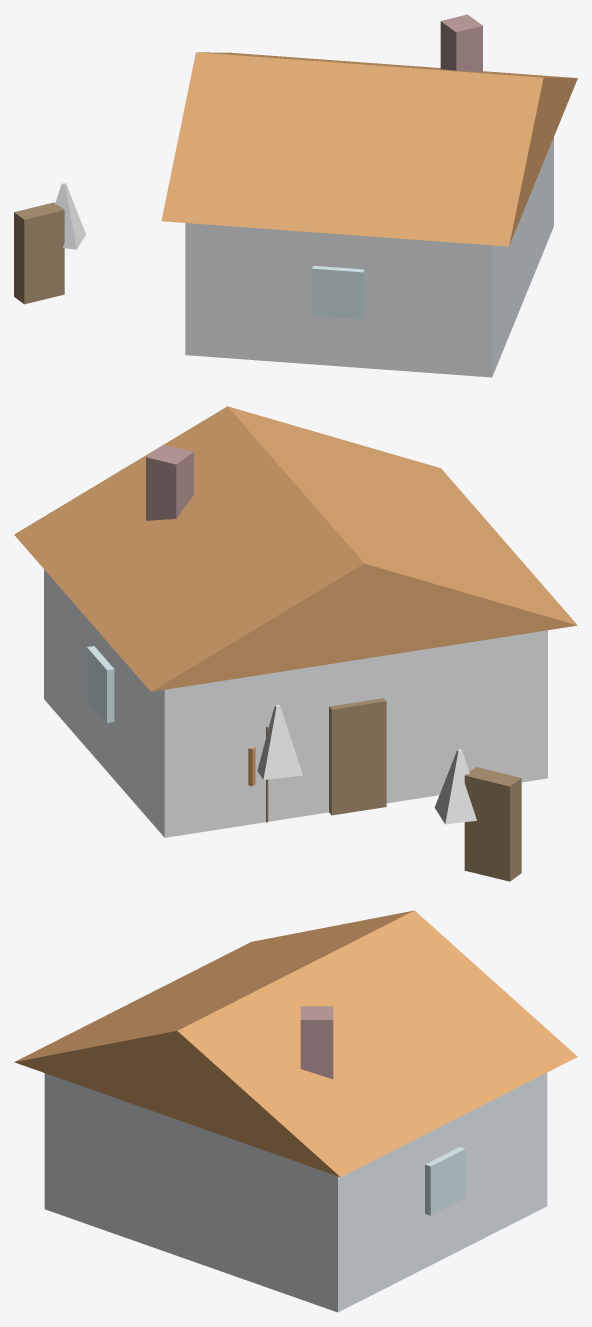
Rendered from house_hermes.glb.
3 views of the same model, one above another, from view 1: azimuth 30°, elevation 25°; view 2: azimuth 150°, elevation 25°; view 3: azimuth 270°, elevation 25° (orthographic). The views are drawn at different scales.
Visible parts, largest first — view 1: hermes_atap.001, hermes_dinding.001, hermes_rak_kiri.001, hermes_jendela_-1.001, hermes_cerobong.001, hermes_sayap_kiri.001; view 2: hermes_atap.001, hermes_dinding.001, hermes_pintu.001, hermes_rak_kiri.001, hermes_cerobong.001, hermes_sayap_kanan.001, hermes_sayap_kiri.001, hermes_jendela_1.001; view 3: hermes_atap.001, hermes_dinding.001, hermes_cerobong.001, hermes_jendela_1.001.
Part boxes in pixels (left/top/right/bottom): hermes_atap.001: left=161, top=52, right=577, bottom=246; hermes_dinding.001: left=185, top=137, right=553, bottom=377; hermes_rak_kiri.001: left=14, top=202, right=64, bottom=304; hermes_jendela_-1.001: left=312, top=265, right=364, bottom=319; hermes_cerobong.001: left=440, top=14, right=482, bottom=72; hermes_sayap_kiri.001: left=55, top=183, right=85, bottom=249; hermes_atap.001: left=14, top=406, right=577, bottom=691; hermes_dinding.001: left=44, top=569, right=547, bottom=837; hermes_pintu.001: left=329, top=698, right=386, bottom=815; hermes_rak_kiri.001: left=464, top=767, right=521, bottom=881; hermes_cerobong.001: left=146, top=444, right=193, bottom=520; hermes_sayap_kanan.001: left=257, top=705, right=302, bottom=779; hermes_sayap_kiri.001: left=434, top=749, right=476, bottom=824; hermes_jendela_1.001: left=87, top=646, right=114, bottom=722; hermes_atap.001: left=14, top=910, right=577, bottom=1177; hermes_dinding.001: left=44, top=1073, right=547, bottom=1312; hermes_cerobong.001: left=300, top=1006, right=333, bottom=1079; hermes_jendela_1.001: left=425, top=1147, right=465, bottom=1215.
Bounding box in the file's own units: 11.19 × 5 × 10.35.
